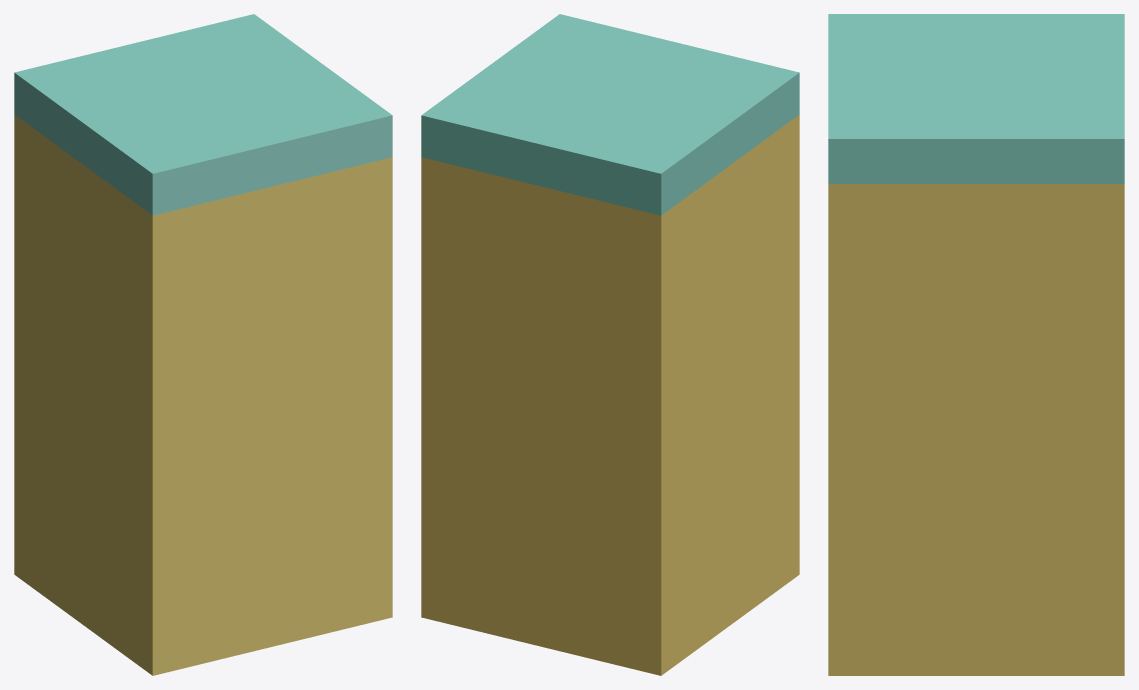
The model's file is squidgame_props_platform3_yellow.fbx.
The picture shows the model from 3 angles, left to right: view 1: azimuth 30°, elevation 25°; view 2: azimuth 150°, elevation 25°; view 3: azimuth 270°, elevation 25°; orthographic projection. The views are drawn at different scales.
Visible parts, largest first — view 1: squidgame_props_platform3_yellow; view 2: squidgame_props_platform3_yellow; view 3: squidgame_props_platform3_yellow.
Boxes of the visible parts, box(x1,y1,x2,y2) form: squidgame_props_platform3_yellow: box(14, 14, 392, 675); squidgame_props_platform3_yellow: box(421, 14, 799, 675); squidgame_props_platform3_yellow: box(828, 14, 1124, 675).
Bounding box in the file's own units: 1.5 × 3 × 1.5.
